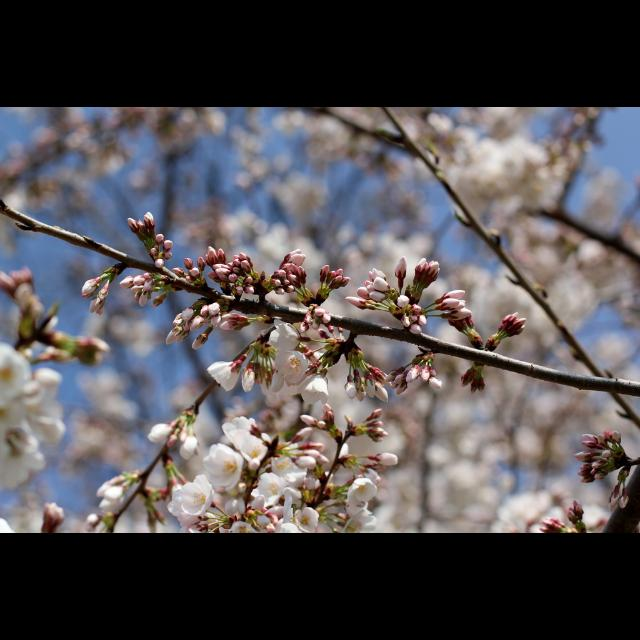Flower: (1, 107, 640, 533), (580, 432, 632, 498)
